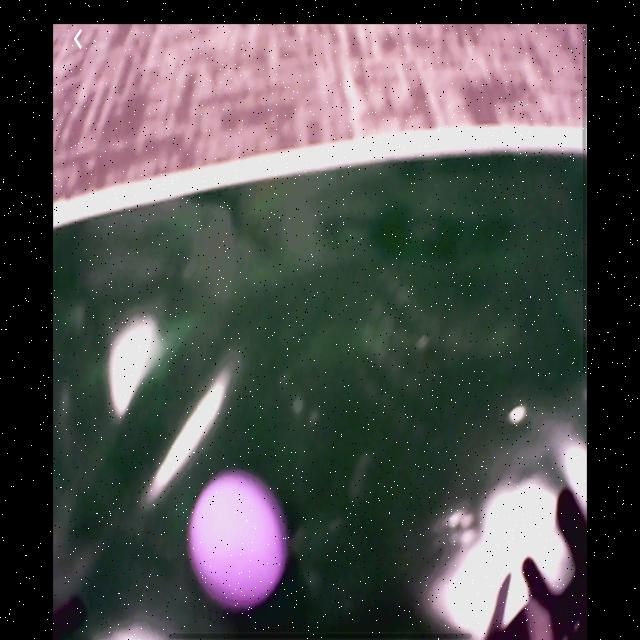ball: (186, 466, 292, 613)
